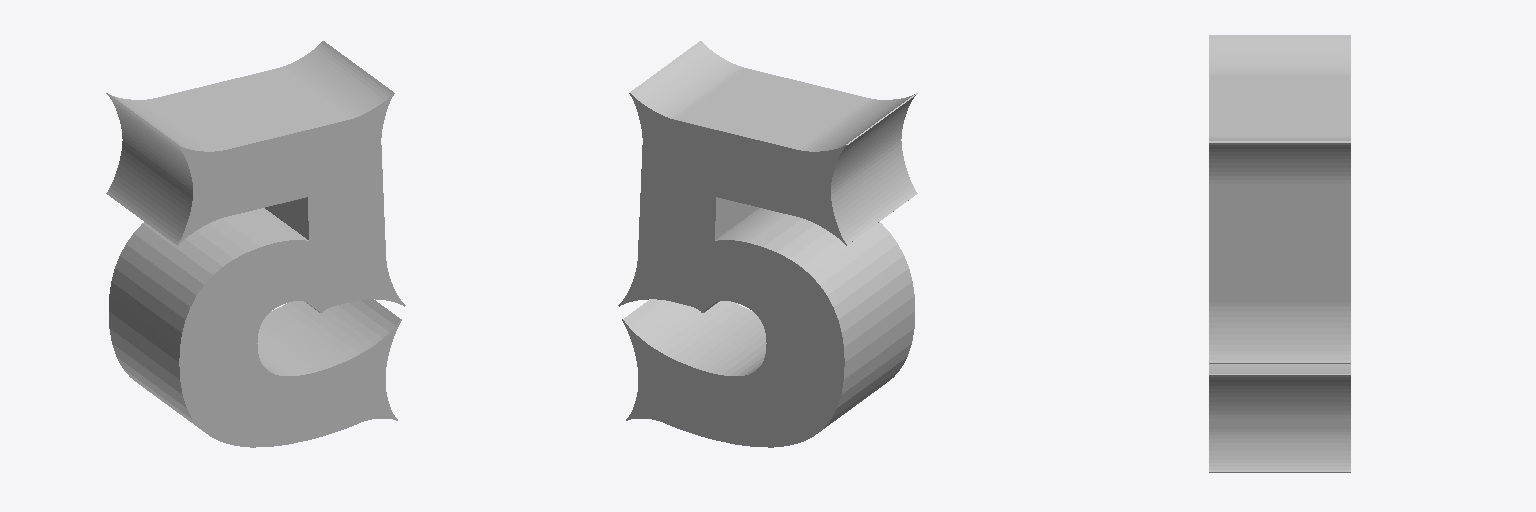
The picture shows the model from 3 angles: view 1: azimuth 30°, elevation 25°; view 2: azimuth 150°, elevation 25°; view 3: azimuth 270°, elevation 25°; orthographic projection.
Visible parts, largest first — view 1: テキスト; view 2: テキスト; view 3: テキスト.
Part boxes in pixels (left/top/right/bottom): テキスト: left=106, top=41, right=405, bottom=447; テキスト: left=618, top=41, right=917, bottom=447; テキスト: left=1209, top=35, right=1350, bottom=472.
Size of the model in its own units: 0.3737 by 0.5151 by 0.2.